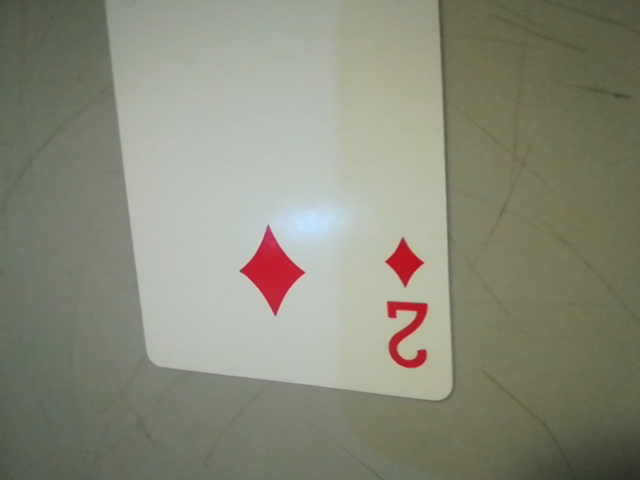fk 2: (366, 225, 445, 382)
